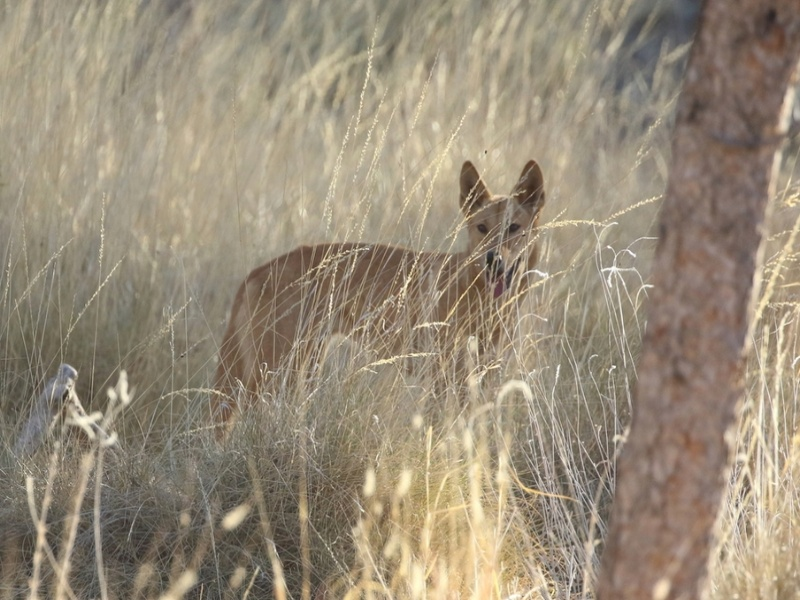dog: (203, 156, 546, 463)
